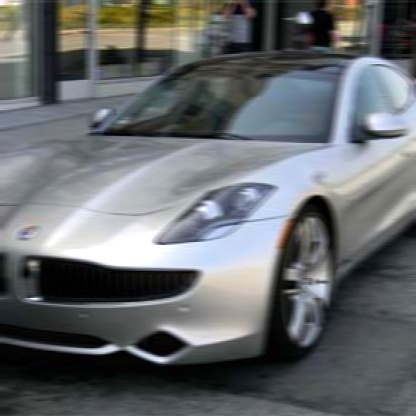Vehicle: (1, 49, 414, 374)
